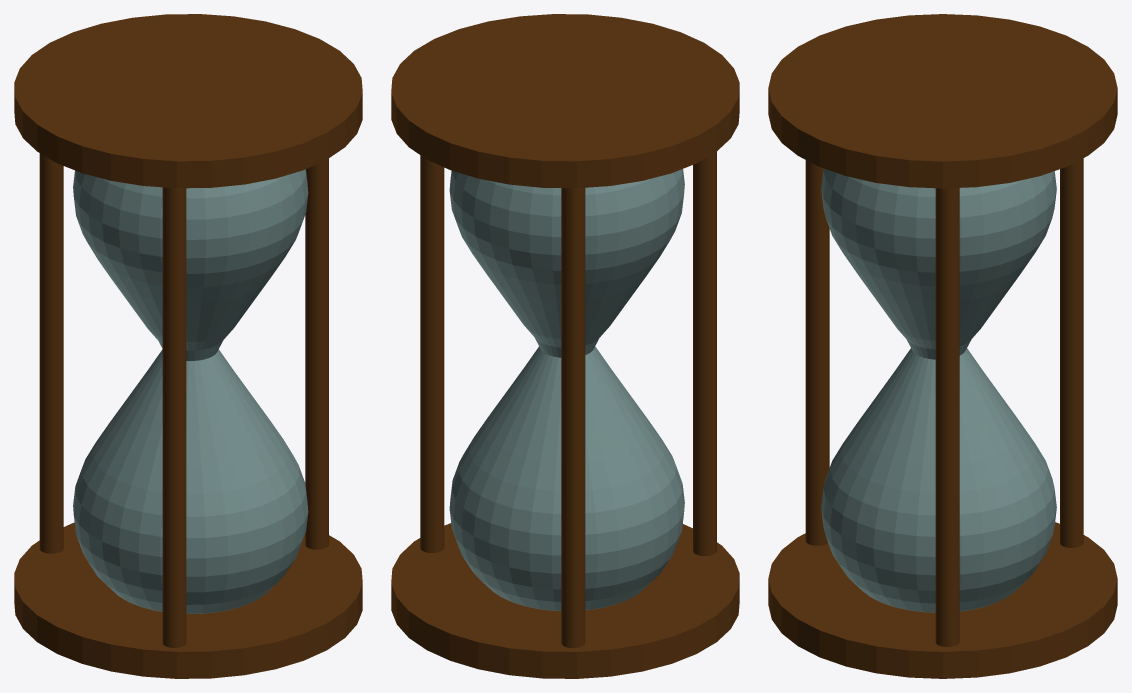
File: Hourglass.fbx
3 views of the same model, side by side, from view 1: azimuth 30°, elevation 25°; view 2: azimuth 150°, elevation 25°; view 3: azimuth 270°, elevation 25° (orthographic).
Visible parts, largest first — view 1: Cylinder.008; view 2: Cylinder.008; view 3: Cylinder.008.
Part boxes in pixels (x1,y1,x2,y2): Cylinder.008: [14, 14, 362, 678]; Cylinder.008: [391, 14, 739, 678]; Cylinder.008: [768, 14, 1117, 678].
Bounding box in the file's own units: 49.92 × 81.74 × 49.92.
